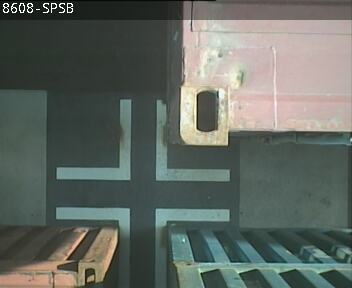groundmarker_1: (56, 99, 229, 181), (56, 206, 229, 288)
